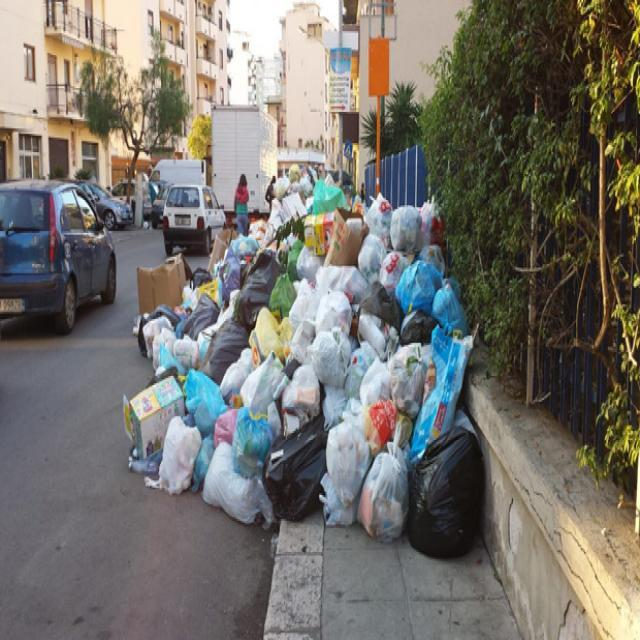garbage: (260, 160, 487, 564), (120, 226, 260, 528)
